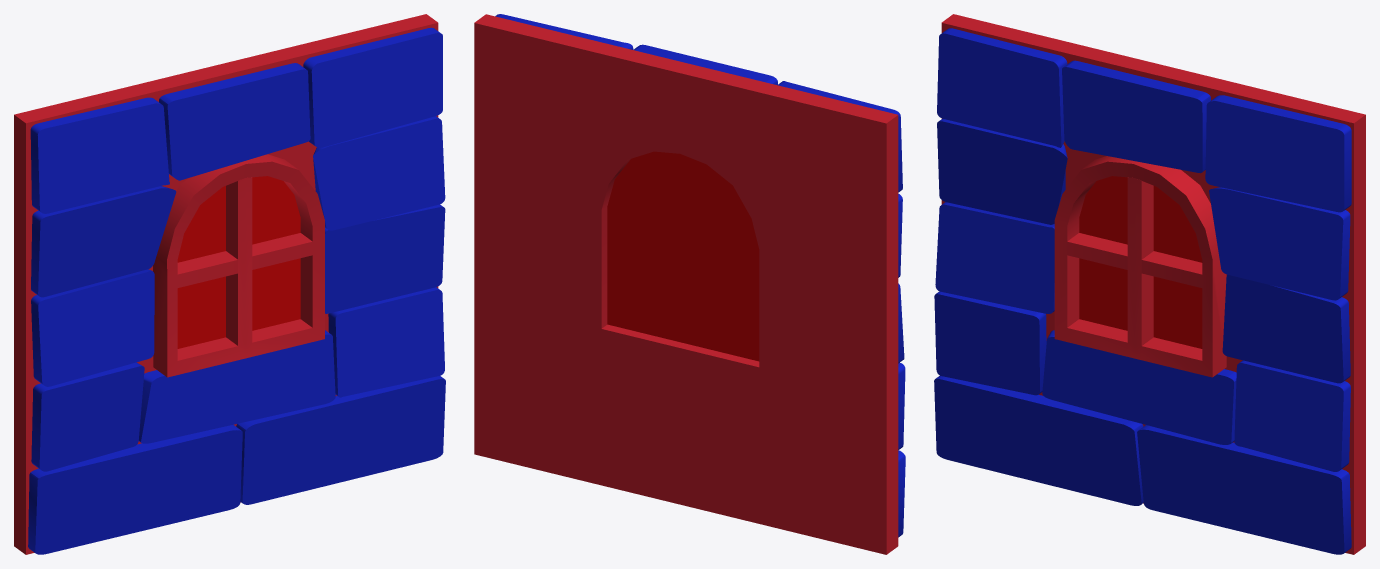
Rendered from Unity HD Render Pipeline (Metallic Standard).fbx.
3 renders of one model, left to right at view 1: azimuth 30°, elevation 25°; view 2: azimuth 150°, elevation 25°; view 3: azimuth 330°, elevation 25°, orthographic.
Visible parts, largest first — view 1: WallWindow (×3); view 2: WallWindow (×3); view 3: WallWindow (×3).
Boxes of the visible parts, <box> form: WallWindow (×3): <box>14,14,445,554</box>; WallWindow (×3): <box>474,14,905,554</box>; WallWindow (×3): <box>934,14,1365,554</box>.
Size of the model in its own units: 2 by 2 by 0.2181.
